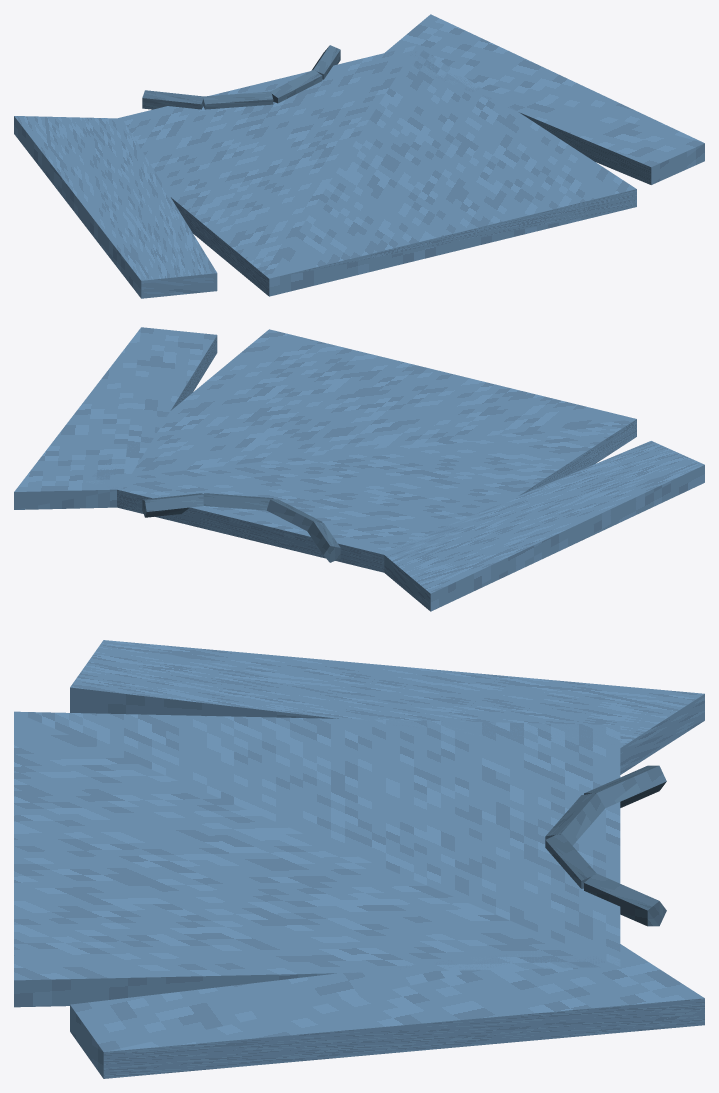
The model's file is postman_shirt.glb.
The picture shows the model from 3 angles, top to bottom: view 1: azimuth 30°, elevation 25°; view 2: azimuth 150°, elevation 25°; view 3: azimuth 270°, elevation 25°; orthographic projection. The views are drawn at different scales.
Visible parts, largest first — view 1: block_shirt torso, block_sleeve or strap -1, block_sleeve or strap 1, block_bound collar 1, block_bound collar 0, block_bound collar 2, block_bound collar 3; view 2: block_shirt torso, block_sleeve or strap -1, block_sleeve or strap 1, block_bound collar 3, block_bound collar 2, block_bound collar 0, block_bound collar 1; view 3: block_shirt torso, block_sleeve or strap 1, block_sleeve or strap -1, block_bound collar 3, block_bound collar 0, block_bound collar 1, block_bound collar 2.
Part boxes in pixels (left/top/right/bottom): block_shirt torso: left=118, top=45, right=636, bottom=296; block_sleeve or strap -1: left=14, top=116, right=217, bottom=298; block_sleeve or strap 1: left=385, top=14, right=704, bottom=184; block_bound collar 1: left=203, top=91, right=273, bottom=109; block_bound collar 0: left=142, top=90, right=203, bottom=109; block_bound collar 2: left=270, top=69, right=322, bottom=103; block_bound collar 3: left=312, top=45, right=340, bottom=79; block_shirt torso: left=86, top=329, right=636, bottom=572; block_sleeve or strap -1: left=382, top=441, right=704, bottom=611; block_sleeve or strap 1: left=14, top=327, right=217, bottom=509; block_bound collar 3: left=142, top=493, right=203, bottom=517; block_bound collar 2: left=203, top=493, right=273, bottom=510; block_bound collar 0: left=307, top=521, right=340, bottom=562; block_bound collar 1: left=266, top=499, right=322, bottom=530; block_shirt torso: left=14, top=711, right=620, bottom=1007; block_sleeve or strap 1: left=70, top=944, right=704, bottom=1078; block_sleeve or strap -1: left=70, top=640, right=704, bottom=774; block_bound collar 3: left=584, top=873, right=666, bottom=926; block_bound collar 0: left=584, top=765, right=666, bottom=807; block_bound collar 1: left=545, top=792, right=605, bottom=845; block_bound collar 2: left=545, top=832, right=596, bottom=888.
Bounding box in the file's own units: 0.1826 × 0.0082 × 0.1294.
Materials: 1 (1 with a texture image).
